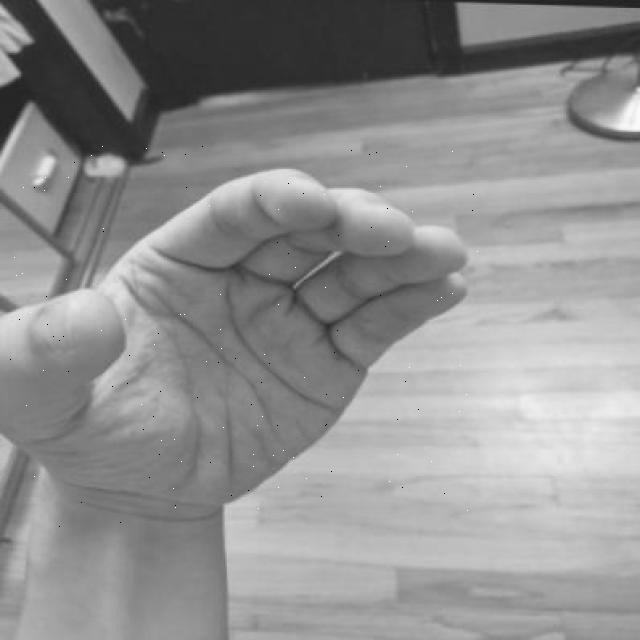C: (0, 143, 481, 534)
